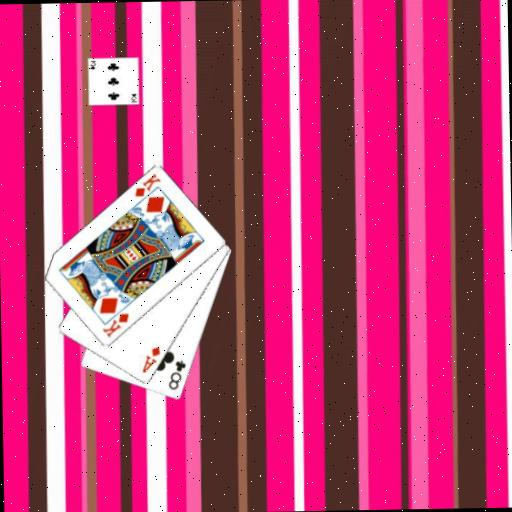8C: (165, 358, 188, 392)
AD: (139, 344, 163, 375)
KD: (99, 310, 131, 339), (131, 171, 163, 199)
